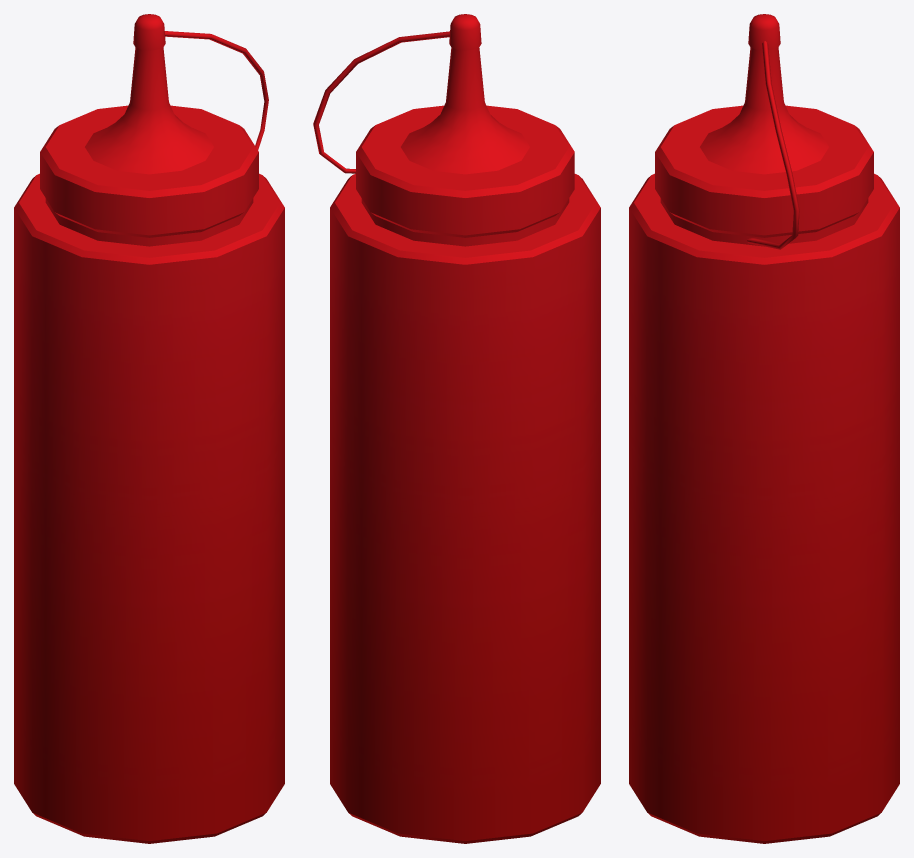
The model's file is Ketchup.fbx.
3 renders of one model, left to right at view 1: azimuth 30°, elevation 25°; view 2: azimuth 150°, elevation 25°; view 3: azimuth 270°, elevation 25°, orthographic.
Parts seen in each view (by area): view 1: Ketchup; view 2: Ketchup; view 3: Ketchup.
Boxes of the visible parts, <box> form: Ketchup: <box>14,14,284,843</box>; Ketchup: <box>313,14,600,843</box>; Ketchup: <box>629,14,899,843</box>.
Bounding box in the file's own units: 46.07 × 42.7 × 134.
